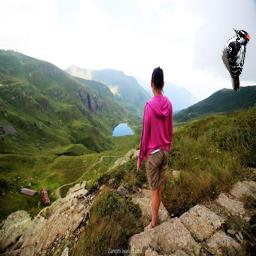Woodpecker: (221, 28, 251, 91)
